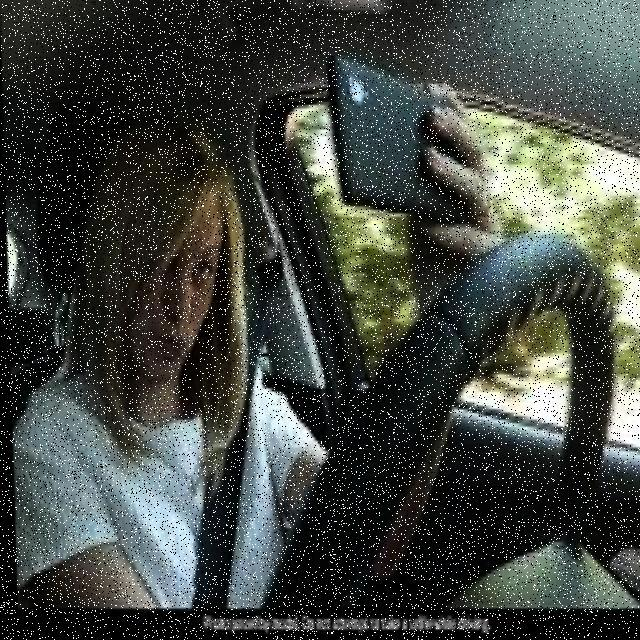seatbelt: (115, 336, 297, 626)
